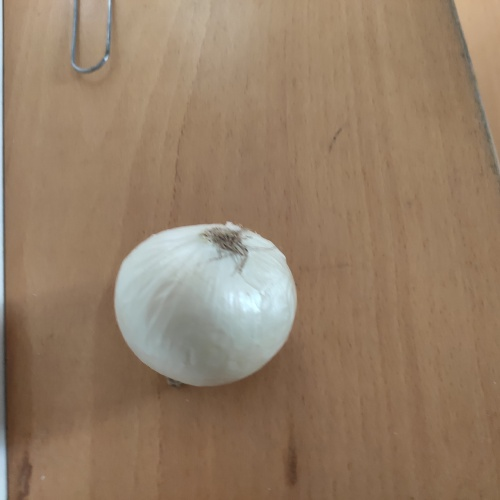cipolla: (103, 216, 306, 395)
